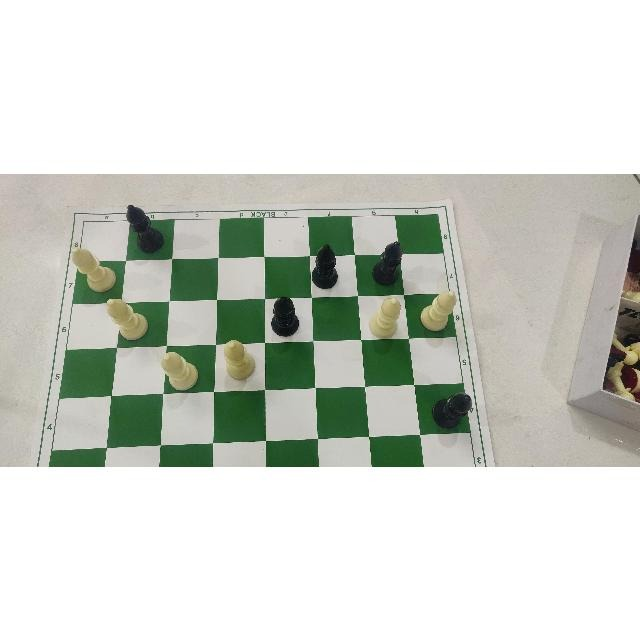black-bishop: (427, 387, 474, 434), (125, 201, 165, 255), (371, 238, 405, 288), (309, 240, 340, 289), (269, 292, 301, 339)
white-bishop: (70, 243, 117, 294), (104, 295, 150, 343), (159, 347, 200, 393), (418, 286, 458, 333), (367, 294, 405, 340), (221, 336, 256, 382)
